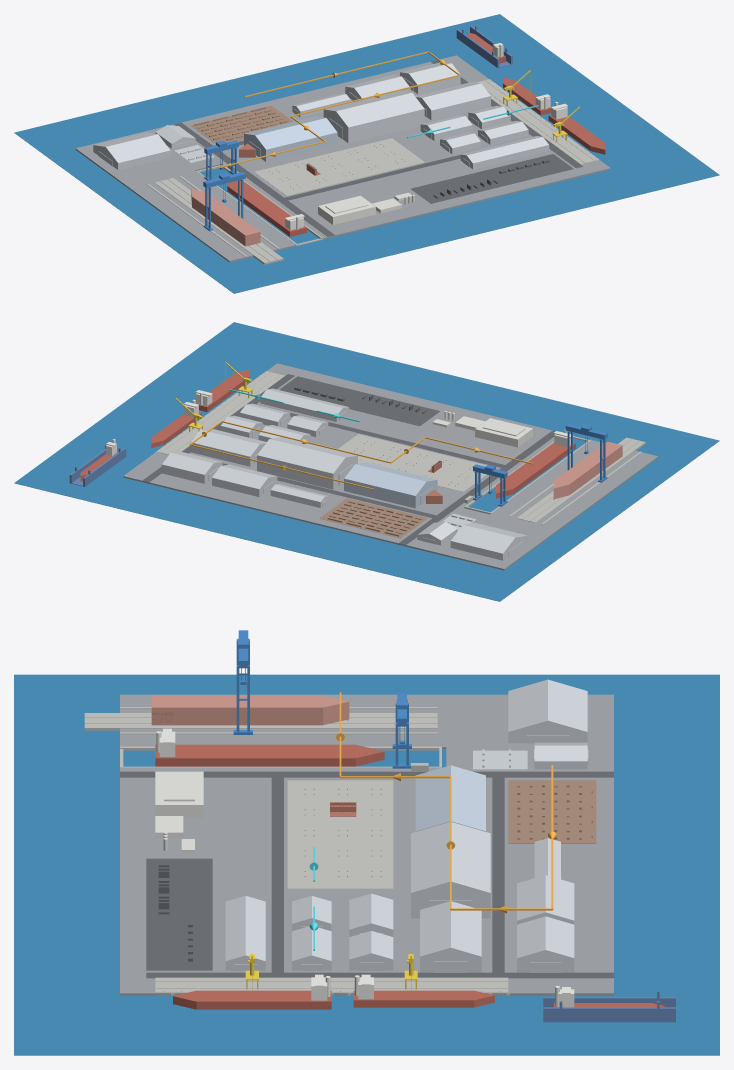
Rendered from demo_shipyard.glb.
3 renders of one model, top to bottom at view 1: azimuth 30°, elevation 25°; view 2: azimuth 150°, elevation 25°; view 3: azimuth 270°, elevation 25°, orthographic. The views are drawn at different scales.
Parts seen in each view (by area): view 1: CTX_SEA, CTX_YARD_GROUND, NODE_A09_OUTDOOR_BLOCK_JOINING_YARD, NODE_A08_BLOCK_ASSEMBLY_HALL, CTX_LAYDOWN_AREA, NODE_A10_BLOCK_BLASTING_PAINT_HALL, CTX_ROADS, NODE_A02_GENERAL_WAREHOUSE, NODE_A19_OUTFITTING_QUAY, NODE_A01_STEEL_STOCKYARD, NODE_A07_PANEL_SUB_ASSEMBLY_LINE, NODE_A16_BUILDING_BERTH (+19 smaller); view 2: CTX_SEA, CTX_YARD_GROUND, NODE_A09_OUTDOOR_BLOCK_JOINING_YARD, NODE_A08_BLOCK_ASSEMBLY_HALL, CTX_ROADS, CTX_LAYDOWN_AREA, NODE_A10_BLOCK_BLASTING_PAINT_HALL, NODE_A01_STEEL_STOCKYARD, NODE_A02_GENERAL_WAREHOUSE, NODE_A19_OUTFITTING_QUAY, NODE_A07_PANEL_SUB_ASSEMBLY_LINE, NODE_A20_MANAGEMENT_ENGINEERING (+19 smaller); view 3: CTX_SEA, CTX_YARD_GROUND, NODE_A09_OUTDOOR_BLOCK_JOINING_YARD, CTX_ROADS, CTX_LAYDOWN_AREA, NODE_A08_BLOCK_ASSEMBLY_HALL, CTX_NB1001_HULL_ENVELOPE, NODE_A01_STEEL_STOCKYARD, CTX_SHIP_IN_DRY_DOCK_HULL, NODE_A19_OUTFITTING_QUAY, NODE_A02_GENERAL_WAREHOUSE, NODE_A16_BUILDING_BERTH (+19 smaller).
Boxes of the visible parts, x1=… form: CTX_SEA: x1=14, y1=14, x2=719, y2=293; CTX_YARD_GROUND: x1=75, y1=55, x2=610, y2=262; NODE_A09_OUTDOOR_BLOCK_JOINING_YARD: x1=254, y1=138, x2=424, y2=195; NODE_A08_BLOCK_ASSEMBLY_HALL: x1=323, y1=91, x2=424, y2=143; CTX_LAYDOWN_AREA: x1=410, y1=154, x2=573, y2=203; NODE_A10_BLOCK_BLASTING_PAINT_HALL: x1=244, y1=116, x2=337, y2=161; CTX_ROADS: x1=174, y1=60, x2=582, y2=236; NODE_A02_GENERAL_WAREHOUSE: x1=93, y1=132, x2=170, y2=169; NODE_A19_OUTFITTING_QUAY: x1=476, y1=79, x2=599, y2=164; NODE_A01_STEEL_STOCKYARD: x1=191, y1=106, x2=292, y2=143; NODE_A07_PANEL_SUB_ASSEMBLY_LINE: x1=415, y1=82, x2=490, y2=120; NODE_A16_BUILDING_BERTH: x1=147, y1=176, x2=283, y2=264; CTX_SEA: x1=14, y1=322, x2=719, y2=601; CTX_YARD_GROUND: x1=123, y1=363, x2=658, y2=570; NODE_A09_OUTDOOR_BLOCK_JOINING_YARD: x1=338, y1=434, x2=496, y2=491; NODE_A08_BLOCK_ASSEMBLY_HALL: x1=257, y1=437, x2=357, y2=489; CTX_ROADS: x1=142, y1=374, x2=555, y2=544; CTX_LAYDOWN_AREA: x1=279, y1=376, x2=440, y2=426; NODE_A10_BLOCK_BLASTING_PAINT_HALL: x1=344, y1=462, x2=437, y2=508; NODE_A01_STEEL_STOCKYARD: x1=319, y1=498, x2=427, y2=538; NODE_A02_GENERAL_WAREHOUSE: x1=450, y1=523, x2=527, y2=560; NODE_A19_OUTFITTING_QUAY: x1=155, y1=371, x2=284, y2=454; NODE_A07_PANEL_SUB_ASSEMBLY_LINE: x1=190, y1=428, x2=266, y2=466; NODE_A20_MANAGEMENT_ENGINEERING: x1=432, y1=411, x2=532, y2=447; CTX_SEA: x1=14, y1=674, x2=719, y2=1055; CTX_YARD_GROUND: x1=120, y1=694, x2=613, y2=995; NODE_A09_OUTDOOR_BLOCK_JOINING_YARD: x1=287, y1=780, x2=393, y2=888; CTX_ROADS: x1=120, y1=771, x2=613, y2=978; CTX_LAYDOWN_AREA: x1=146, y1=858, x2=212, y2=970; NODE_A08_BLOCK_ASSEMBLY_HALL: x1=411, y1=822, x2=490, y2=918; CTX_NB1001_HULL_ENVELOPE: x1=151, y1=695, x2=349, y2=725; NODE_A01_STEEL_STOCKYARD: x1=508, y1=780, x2=596, y2=843; CTX_SHIP_IN_DRY_DOCK_HULL: x1=155, y1=744, x2=384, y2=766; NODE_A19_OUTFITTING_QUAY: x1=155, y1=977, x2=509, y2=995; NODE_A02_GENERAL_WAREHOUSE: x1=508, y1=679, x2=587, y2=743; NODE_A16_BUILDING_BERTH: x1=84, y1=707, x2=437, y2=734.
Bounding box in the file's own units: 1020 × 112 × 800.
